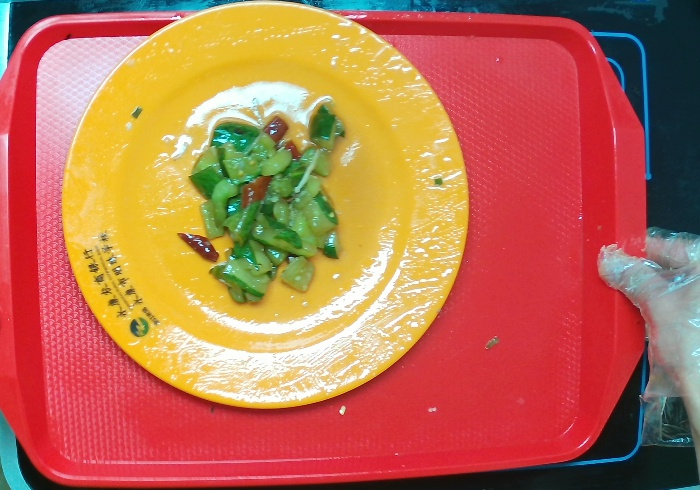YKMZ-Ju_Se_Mian_Pan: (57, 1, 470, 413)
